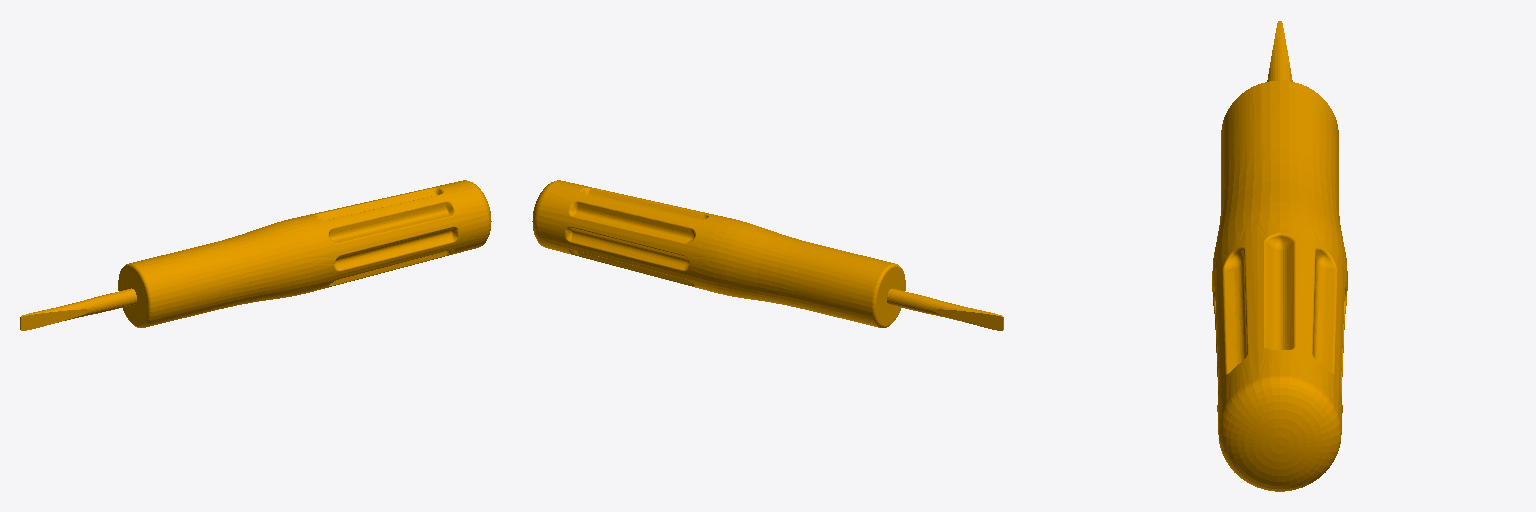
The robot description file, URDF, robot "screwdriver_3_L0.91_T0.94":
<?xml version="1.0" encoding="utf-8"?>
<robot name="screwdriver_3_L0.91_T0.94">
  <link name="screwdriver_3_L0.91_T0.94Link">
    <contact>
      <lateral_friction value="1"/>
    </contact>
    <inertial>
      <origin rpy="0 0 0" xyz="0 0 0"/>
      <mass value="0.0"/>
      <inertia ixx="0" ixy="0" ixz="0" iyy="0" iyz="0" izz="0"/>
    </inertial>
    <visual>
      <origin rpy="0 0 0" xyz="0 0 0"/>
      <geometry>
        <mesh filename="generated_stl/screwdriver/screwdriver_3/screwdriver_3_L0.91_T0.94/screwdriver_3_L0.91_T0.94.stl" scale="0.01 0.01 0.01"/>
      </geometry>
    </visual>
    <collision>
      <origin rpy="0 0 0" xyz="0 0 0"/>
      <geometry>
        <mesh filename="generated_stl/screwdriver/screwdriver_3/screwdriver_3_L0.91_T0.94/screwdriver_3_L0.91_T0.94.stl" scale="0.01 0.01 0.01"/>
      </geometry>
    </collision>
  </link>
</robot>

--- What the picture shows (computed from the rendered views, not written in the file) ---
3 views of the same robot in one strip: view 1: azimuth 30°, elevation 25°; view 2: azimuth 150°, elevation 25°; view 3: azimuth 270°, elevation 25° (orthographic).
Model screwdriver_3_L0.91_T0.94 with 1 links and 0 joints (none), rooted at screwdriver_3_L0.91_T0.94Link, posed all joints at 0.
Links seen in each view (by area): view 1: screwdriver_3_L0.91_T0.94Link; view 2: screwdriver_3_L0.91_T0.94Link; view 3: screwdriver_3_L0.91_T0.94Link.
Link boxes in pixels (left/top/right/bottom): screwdriver_3_L0.91_T0.94Link: left=20, top=180, right=491, bottom=330; screwdriver_3_L0.91_T0.94Link: left=532, top=180, right=1003, bottom=330; screwdriver_3_L0.91_T0.94Link: left=1212, top=21, right=1347, bottom=491.
Bounding box of the posed robot: 0.0731 × 0.0102 × 0.0105 m (x, y, z).
1 mesh visuals loaded from 1 distinct referenced files (1 binary STL).